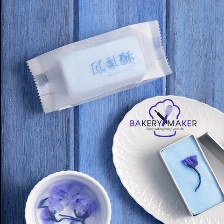snack: (17, 14, 179, 117)
